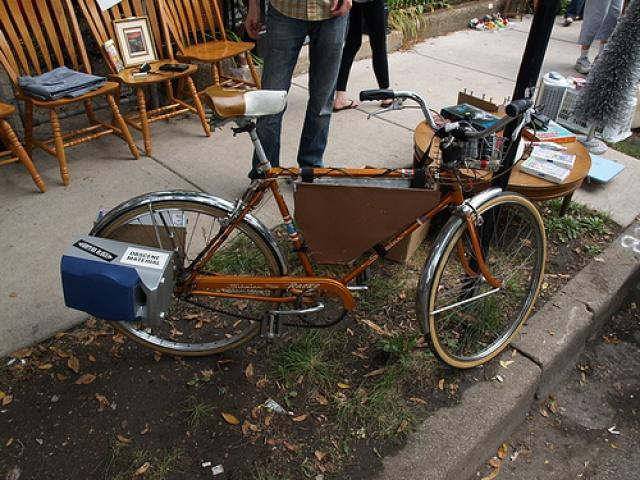Kursi: (0, 0, 139, 185), (78, 0, 211, 158), (160, 0, 261, 90)
